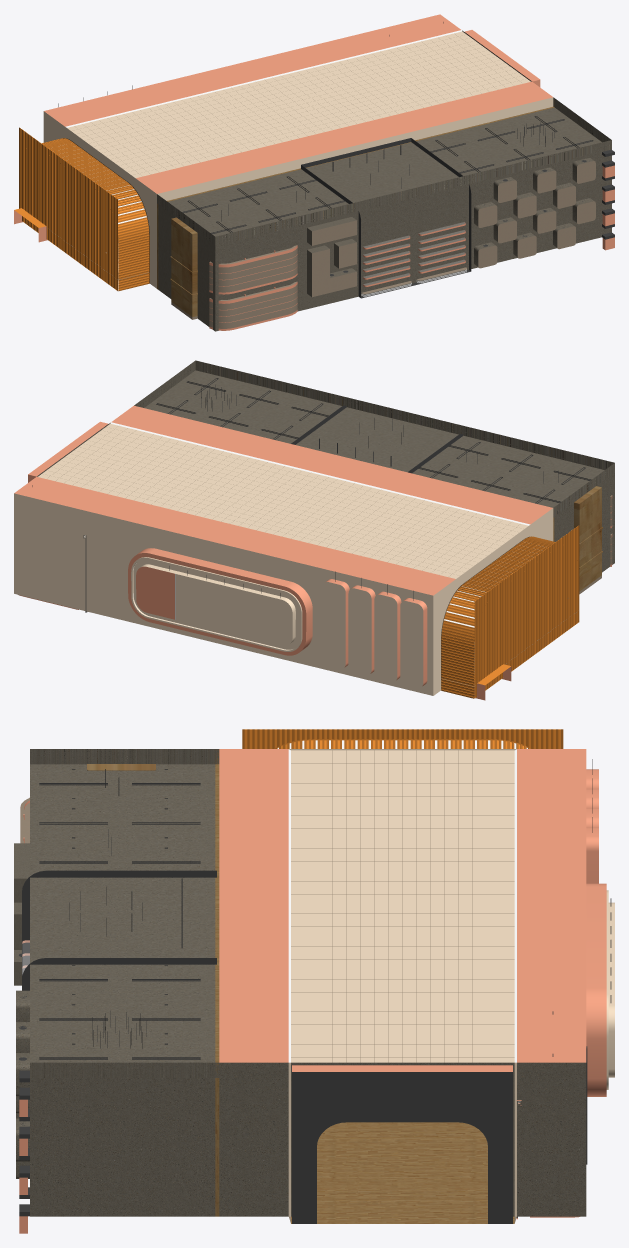
File: virtual_store_cute_pastelle.glb
3 renders of one model, top to bottom at view 1: azimuth 30°, elevation 25°; view 2: azimuth 150°, elevation 25°; view 3: azimuth 270°, elevation 25°, orthographic. The views are drawn at different scales.
Visible parts, largest first — view 1: Cube.010_0, Cube.048_21, Cube.031_10, Cube.039_14, Cube.040_15, Cube.025_6, Plane.003_7, Cube.045_18, Cube.007_53, Cube.016_42, Walls.008_39, Cube.005_3 (+6 smaller); view 2: Cube.029_8, Cube.048_21, Cube.010_0, Cube.031_10, Cube.037_13, Cube.025_6, Plane.003_7, Cube.005_3, Walls.008_39, Plane.001_1, Walls.010_44, Cube.013_17 (+1 smaller); view 3: Cube.010_0, Cube.048_21, Cube.031_10, Walls.010_44, Cube.030_9, Cube.029_8, Cube.025_6, Cube.013_17, Plane.001_1, Plane.003_7, Cube.040_15, Cube.006_43 (+3 smaller).
Boxes of the visible parts, left/top/right/bottom form: Cube.010_0: left=157, top=30, right=611, bottom=330; Cube.048_21: left=67, top=31, right=530, bottom=178; Cube.031_10: left=44, top=14, right=552, bottom=193; Cube.039_14: left=215, top=140, right=611, bottom=331; Cube.040_15: left=473, top=153, right=595, bottom=268; Cube.025_6: left=19, top=127, right=117, bottom=290; Plane.003_7: left=20, top=138, right=149, bottom=291; Cube.045_18: left=303, top=211, right=356, bottom=309; Cube.007_53: left=209, top=245, right=297, bottom=294; Cube.016_42: left=209, top=281, right=297, bottom=330; Walls.008_39: left=170, top=217, right=197, bottom=319; Cube.005_3: left=43, top=111, right=156, bottom=288; Cube.029_8: left=14, top=493, right=323, bottom=669; Cube.048_21: left=38, top=423, right=528, bottom=578; Cube.010_0: left=37, top=360, right=614, bottom=572; Cube.031_10: left=14, top=405, right=552, bottom=595; Cube.037_13: left=322, top=569, right=433, bottom=695; Cube.025_6: left=474, top=525, right=579, bottom=698; Plane.003_7: left=441, top=536, right=577, bottom=698; Cube.005_3: left=433, top=508, right=553, bottom=695; Walls.008_39: left=574, top=486, right=602, bottom=594; Plane.001_1: left=156, top=378, right=591, bottom=503; Walls.010_44: left=28, top=421, right=108, bottom=482; Cube.013_17: left=291, top=405, right=463, bottom=473; Cube.010_0: left=30, top=749, right=586, bottom=1216; Cube.048_21: left=291, top=750, right=514, bottom=1062; Cube.031_10: left=219, top=749, right=586, bottom=1062; Walls.010_44: left=292, top=1065, right=512, bottom=1223; Cube.030_9: left=289, top=1122, right=516, bottom=1223; Cube.029_8: left=586, top=883, right=614, bottom=1096; Cube.025_6: left=242, top=729, right=563, bottom=748; Cube.013_17: left=22, top=870, right=216, bottom=990; Plane.001_1: left=39, top=769, right=200, bottom=1059; Plane.003_7: left=275, top=739, right=530, bottom=748; Cube.040_15: left=16, top=990, right=29, bottom=1178; Cube.006_43: left=19, top=1070, right=29, bottom=1233.
Bounding box in the file's own units: 17.97 × 4.16 × 12.96.
27 materials, 6 textured.
